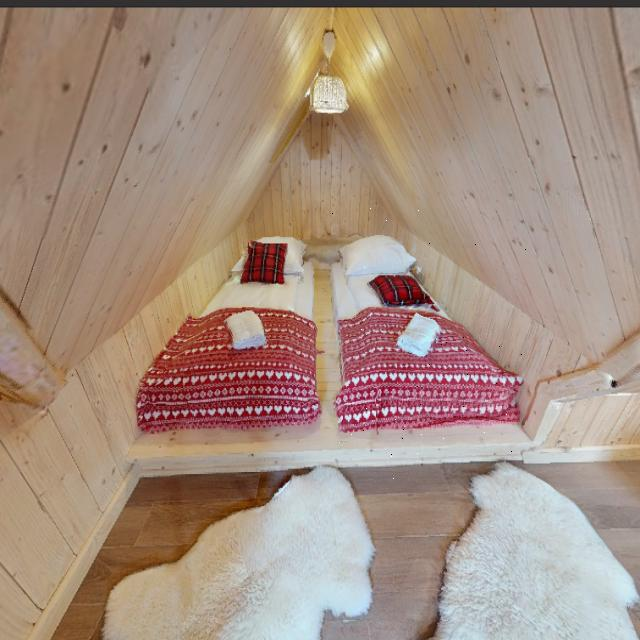bed: (331, 202, 528, 484), (152, 225, 328, 462)
